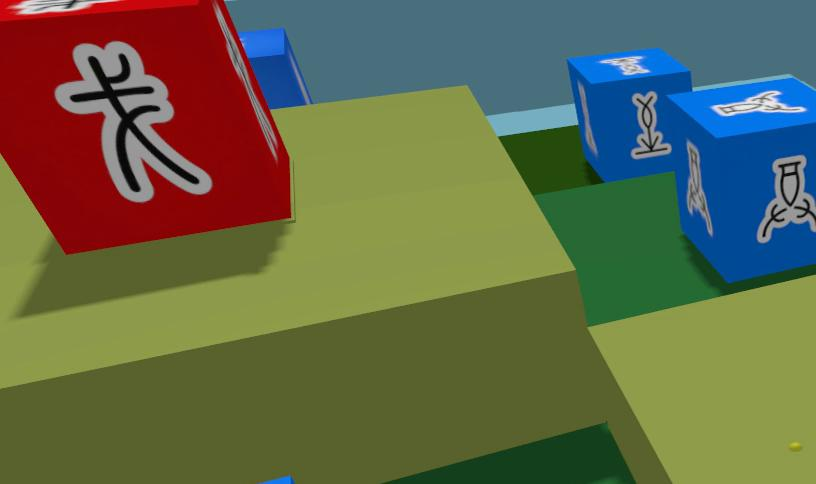KFS_FAKE: (0, 0, 291, 253), (54, 42, 212, 202), (15, 0, 116, 13)
KFS_REAL: (660, 79, 815, 281), (567, 48, 691, 180), (757, 155, 815, 242), (630, 91, 671, 159), (685, 141, 712, 236), (712, 90, 805, 115), (600, 55, 649, 75), (262, 478, 293, 483)
